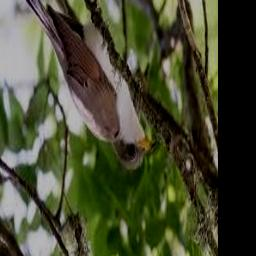Cuckoo: (5, 0, 156, 171)
